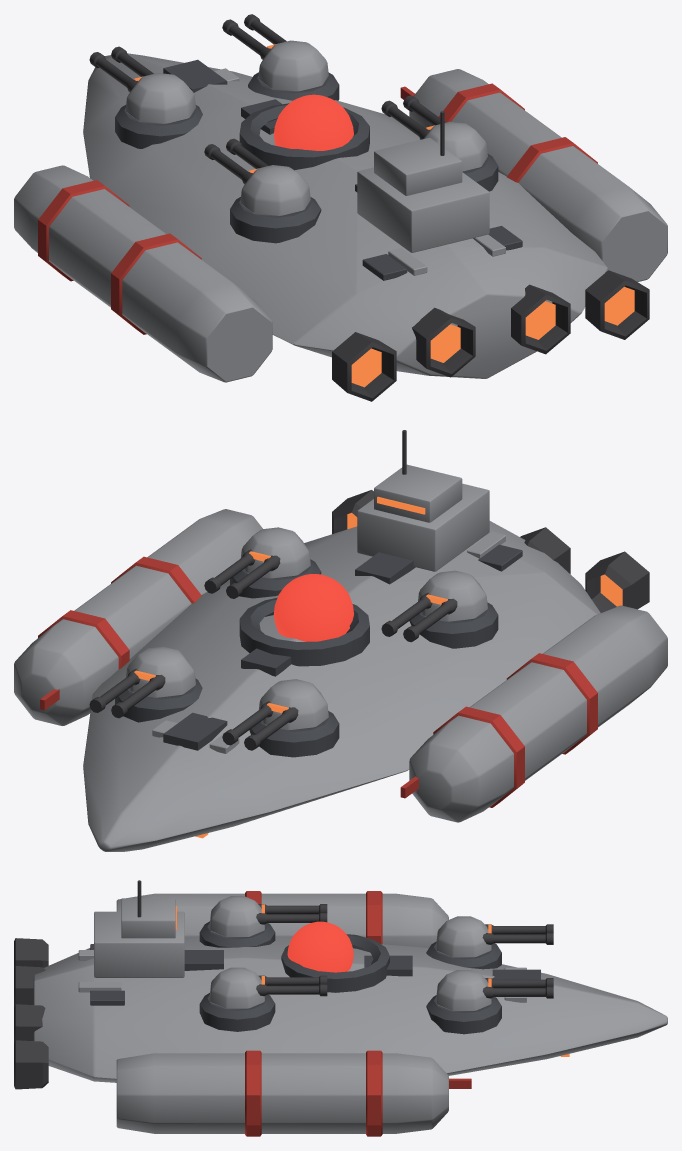
The model's file is boss.glb.
3 renders of one model, top to bottom at view 1: azimuth 30°, elevation 25°; view 2: azimuth 150°, elevation 25°; view 3: azimuth 270°, elevation 25°, orthographic. The views are drawn at different scales.
Parts seen in each view (by area): view 1: Hull, HangarPod, Tower, Core, CoreSocket, TurretDome_2, TurretDome_1, TurretDome_0, Thruster_0, Thruster_3, PodBand_1, TurretBase_2 (+18 smaller); view 2: Hull, HangarPod, Tower, Core, CoreSocket, SpinePlates, PodBand_0, Thruster_0, PodBand_1, TurretDome_0, TurretDome_2, TurretDome_3 (+16 smaller); view 3: Hull, HangarPod, Tower, Core, CoreSocket, PodBand_0, SpinePlates, TurretDome_3, TurretDome_1, TurretDome_0, TurretDome_2, TurretBase_3 (+18 smaller).
Part boxes in pixels (left/top/right/bottom): Hull: left=83, top=53, right=607, bottom=378; HangarPod: left=14, top=69, right=667, bottom=382; Tower: left=357, top=138, right=489, bottom=252; Core: left=273, top=94, right=353, bottom=150; CoreSocket: left=239, top=103, right=369, bottom=170; TurretDome_2: left=240, top=165, right=310, bottom=216; TurretDome_1: left=258, top=40, right=328, bottom=92; TurretDome_0: left=125, top=73, right=195, bottom=124; Thruster_0: left=332, top=332, right=396, bottom=401; Thruster_3: left=585, top=270, right=649, bottom=339; PodBand_1: left=111, top=137, right=597, bottom=334; TurretBase_2: left=230, top=197, right=321, bottom=243; Hull: left=83, top=521, right=600, bottom=851; HangarPod: left=14, top=509, right=667, bottom=822; Tower: left=357, top=464, right=489, bottom=571; Core: left=273, top=574, right=353, bottom=641; CoreSocket: left=239, top=597, right=369, bottom=666; SpinePlates: left=163, top=552, right=415, bottom=750; PodBand_0: left=38, top=610, right=524, bottom=807; Thruster_0: left=585, top=551, right=649, bottom=612; PodBand_1: left=111, top=556, right=597, bottom=754; TurretDome_0: left=259, top=679, right=328, bottom=730; TurretDome_2: left=418, top=570, right=487, bottom=622; TurretDome_3: left=240, top=527, right=310, bottom=579; Hull: left=33, top=936, right=667, bottom=1082; HangarPod: left=116, top=893, right=448, bottom=1133; Tower: left=94, top=898, right=184, bottom=977; Core: left=287, top=921, right=353, bottom=972; CoreSocket: left=281, top=934, right=389, bottom=992; PodBand_0: left=366, top=891, right=382, bottom=1136; SpinePlates: left=184, top=950, right=540, bottom=979; TurretDome_3: left=210, top=967, right=264, bottom=1009; TurretDome_1: left=436, top=970, right=491, bottom=1011; TurretDome_0: left=436, top=916, right=491, bottom=957; TurretDome_2: left=210, top=896, right=264, bottom=937; TurretBase_3: left=199, top=993, right=275, bottom=1031.
Size of the model in its own units: 30.27 by 14.13 by 43.3.
